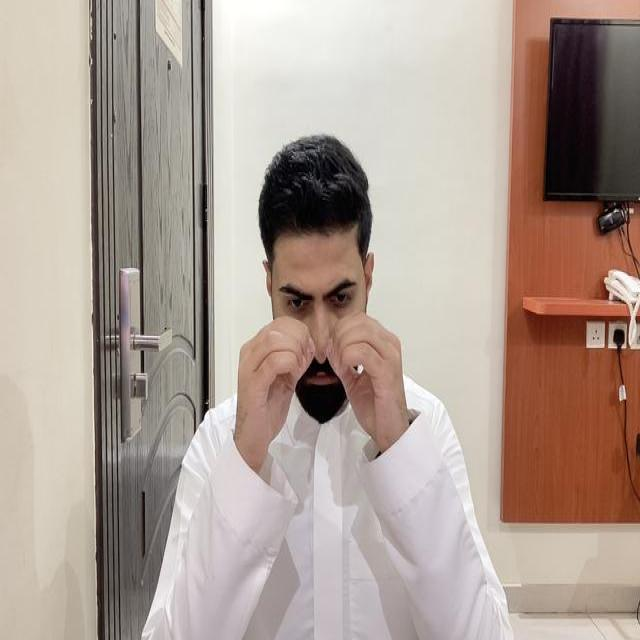analysis: (231, 312, 413, 461)
